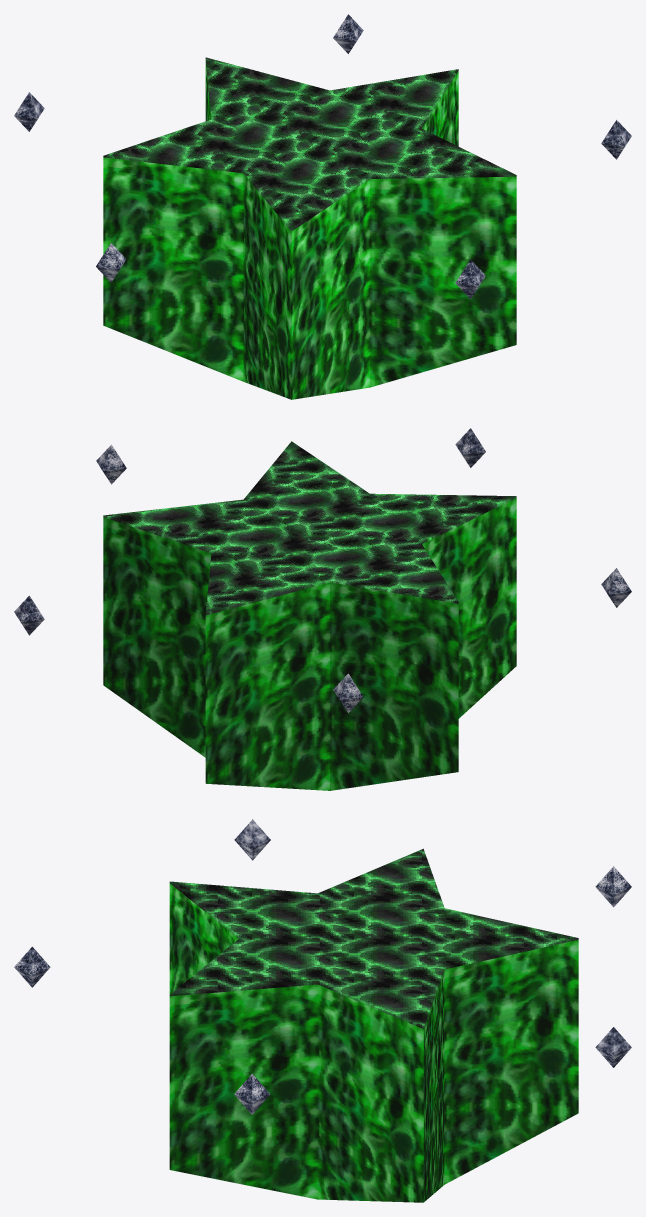
File: koopa3_boss_all.glb
The picture shows the model from 3 angles, top to bottom: view 1: azimuth 30°, elevation 25°; view 2: azimuth 150°, elevation 25°; view 3: azimuth 270°, elevation 25°; orthographic projection. The views are drawn at different scales.
Parts seen in each view (by area): view 1: koopa3_boss_all; view 2: koopa3_boss_all; view 3: koopa3_boss_all.
Boxes of the visible parts, bbox=[...] form: koopa3_boss_all: bbox=[14, 14, 631, 399]; koopa3_boss_all: bbox=[14, 428, 631, 790]; koopa3_boss_all: bbox=[14, 819, 631, 1202].
Bounding box in the file's own units: 6.97 × 2.61 × 6.74.
Materials: 3 (3 with a texture image).
